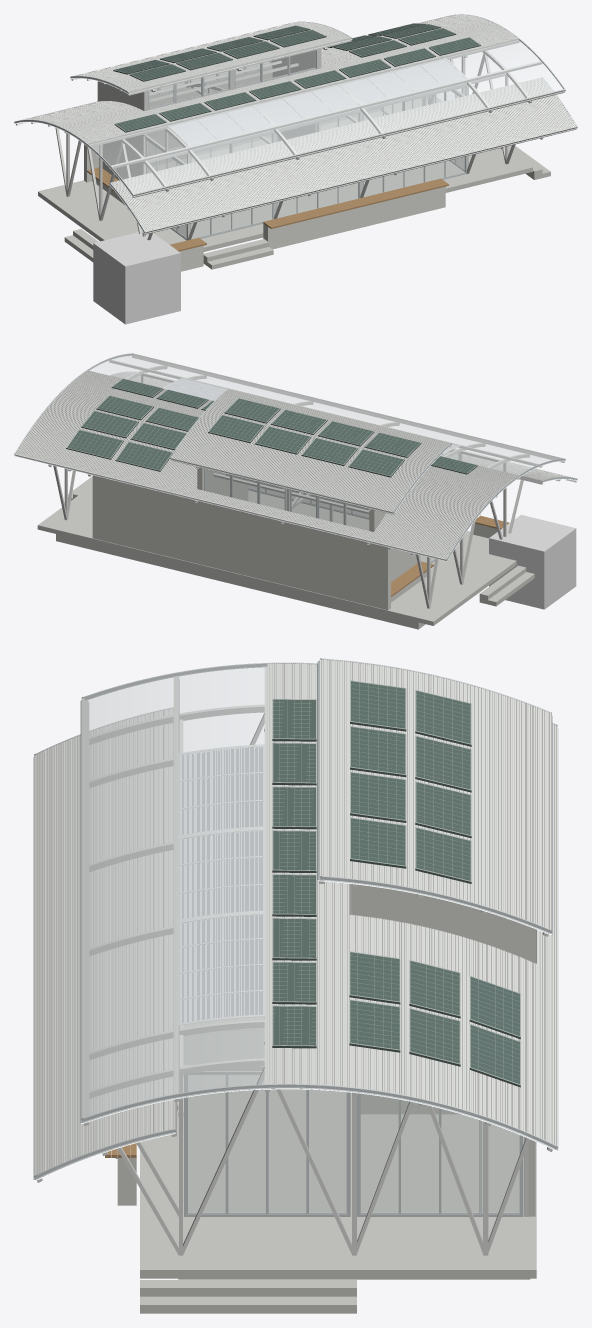
File: solarhouse_r9_pv_closed_sage.glb
The picture shows the model from 3 angles, top to bottom: view 1: azimuth 30°, elevation 25°; view 2: azimuth 150°, elevation 25°; view 3: azimuth 270°, elevation 25°; orthographic projection. The views are drawn at different scales.
Visible parts, largest first — view 1: 主屋盖_连续玻璃整体, 下挑檐_曲面覆层, 平台_14280x6200_顶标高450, 主屋盖_顺檩条无缝分带, Cube, 高窗屋盖_连续曲面, 南侧长座凳_实体基座, 北后墙_高窗下实体, 高窗西侧实体墙, 檩条002_2, 南侧连续横梁_Z3.55, 高窗东侧室内隔墙 (+43 smaller); view 2: 主屋盖_顺檩条无缝分带, 高窗屋盖_连续曲面, 北后墙_高窗下实体, 平台_14280x6200_顶标高450, 主屋盖_连续玻璃整体, 北后墙_东侧会谈区, Cube, 平台基础_按DWG剖面, 檩条002_1, 下挑檐_曲面覆层, PV | rear east roof | module 05, PV | rear east roof | module 06 (+31 smaller); view 3: 主屋盖_连续玻璃整体, 平台_14280x6200_顶标高450, 下挑檐_曲面覆层, 主屋盖_顺檩条无缝分带, 高窗屋盖_连续曲面, 高窗东侧室内隔墙, 东立面_折叠门1_2600x2500_扇1_玻璃, 东立面_折叠门1_2600x2500_扇2_玻璃, 东立面_折叠门1_2600x2500_扇4_玻璃, 东立面_折叠门1_2600x2500_扇3_玻璃, 东立面_折叠门2_2600x2500_扇1_玻璃, 东入口踏步1_踏步300_踢面150 (+52 smaller).
Part boxes in pixels (x1,y1,x2,y2): 主屋盖_连续玻璃整体: (88,39,563,193); 下挑檐_曲面覆层: (111,77,576,232); 平台_14280x6200_顶标高450: (38,98,532,251); 主屋盖_顺檩条无缝分带: (19,14,565,195); Cube: (93,231,180,324); 高窗屋盖_连续曲面: (72,21,351,92); 南侧长座凳_实体基座: (263,186,445,249); 北后墙_高窗下实体: (84,68,272,182); 高窗西侧实体墙: (97,81,148,180); 檩条002_2: (109,61,542,169); 南侧连续横梁_Z3.55: (147,73,506,162); 高窗东侧室内隔墙: (270,50,320,141); 主屋盖_顺檩条无缝分带: (14,353,563,560); 高窗屋盖_连续曲面: (170,388,450,513); 北后墙_高窗下实体: (197,501,390,610); 平台_14280x6200_顶标高450: (37,485,516,625); 主屋盖_连续玻璃整体: (89,354,562,474); 北后墙_东侧会谈区: (92,475,197,563); Cube: (489,514,576,609); 平台基础_按DWG剖面: (56,534,425,629); 檩条002_1: (132,355,564,462); 下挑檐_曲面覆层: (110,371,571,481); PV | rear east roof | module 05: (115,441,172,471); PV | rear east roof | module 06: (66,429,123,459); 主屋盖_连续玻璃整体: (84,664,266,1117); 平台_14280x6200_顶标高450: (140,916,536,1278); 下挑檐_曲面覆层: (34,708,175,1176); 主屋盖_顺檩条无缝分带: (81,663,557,1146); 高窗屋盖_连续曲面: (319,659,551,929); 高窗东侧室内隔墙: (352,884,535,1114); 东立面_折叠门1_2600x2500_扇1_玻璃: (188,1075,225,1212); 东立面_折叠门1_2600x2500_扇2_玻璃: (228,1075,265,1212); 东立面_折叠门1_2600x2500_扇4_玻璃: (309,1090,346,1212); 东立面_折叠门1_2600x2500_扇3_玻璃: (269,1089,305,1212); 东立面_折叠门2_2600x2500_扇1_玻璃: (361,1094,398,1212); 东入口踏步1_踏步300_踢面150: (140,1296,356,1313).
Bounding box in the file's own units: 15.97 × 5.95 × 8.2.
